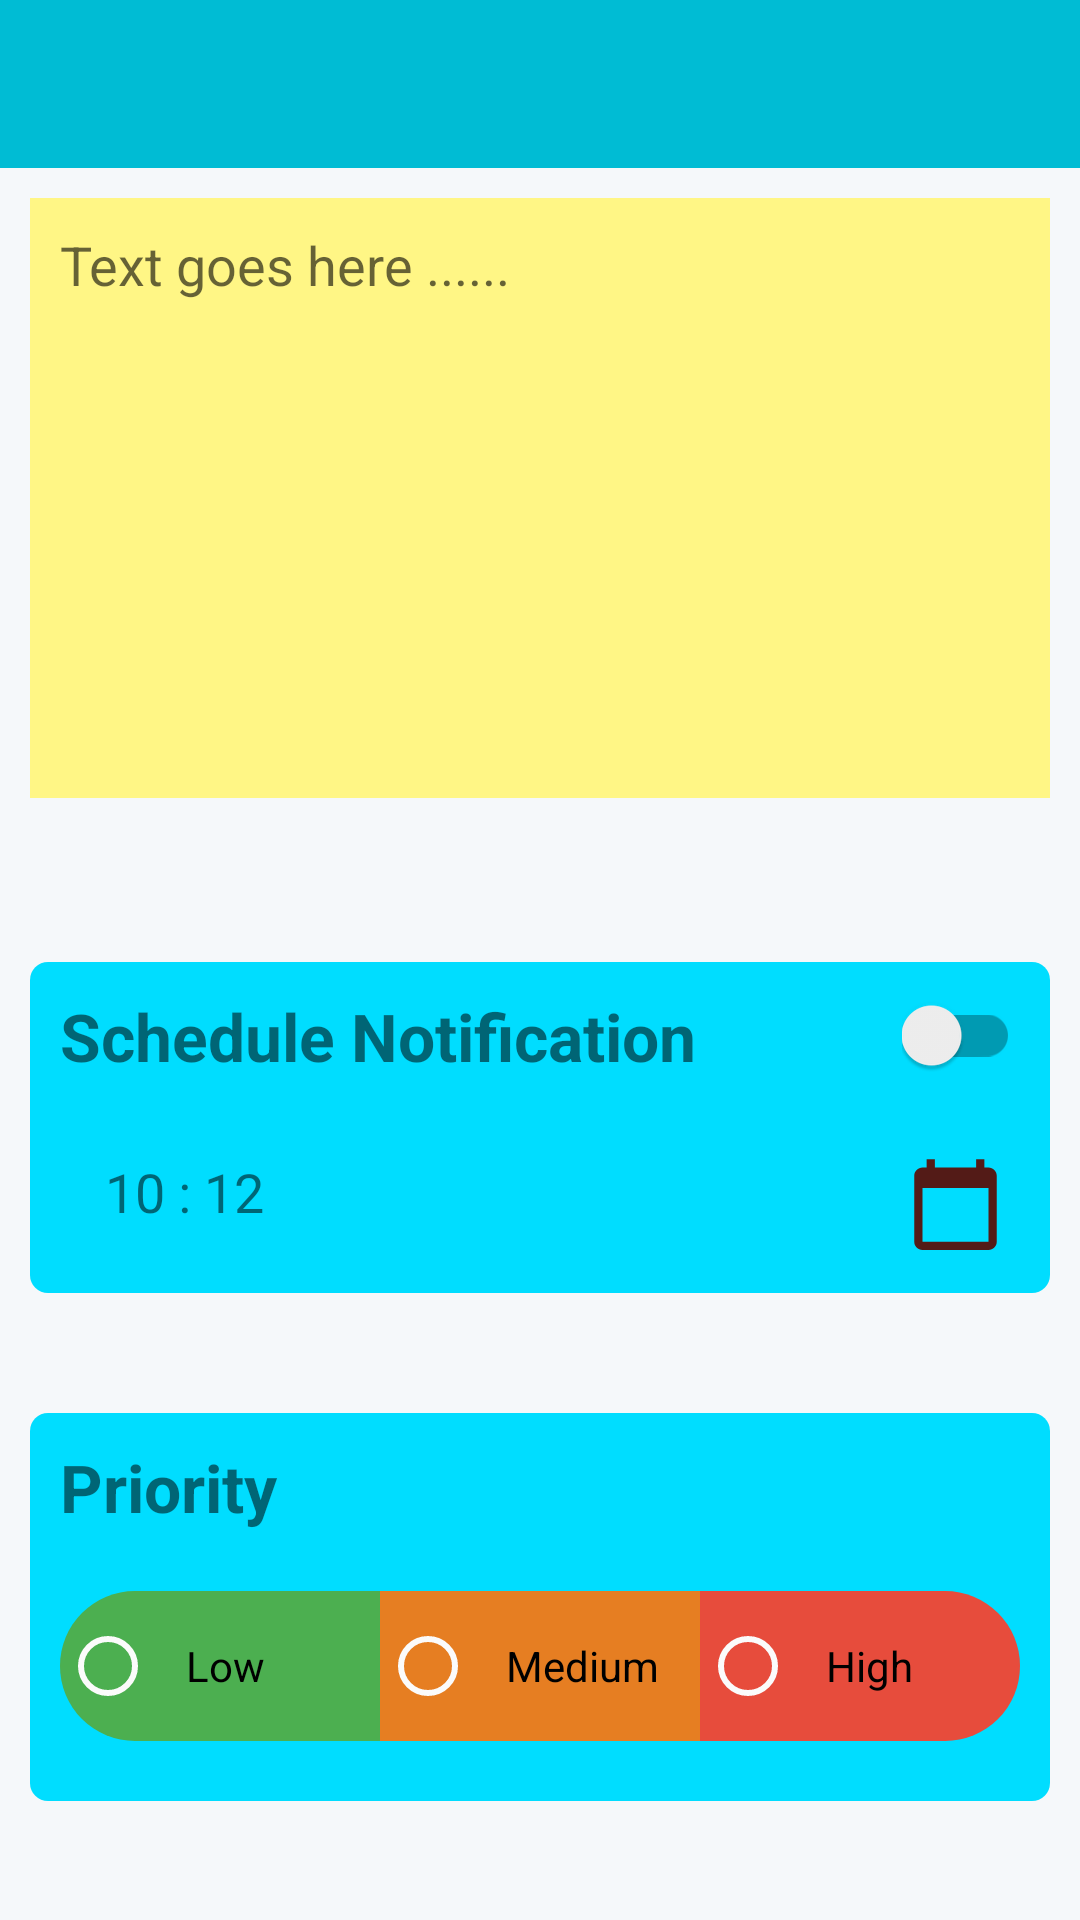

Screen size 1080*1920. Icon name, then its box in pixels as (x1, y1, x2, y2):
date calender image: (914, 1159, 997, 1250)
